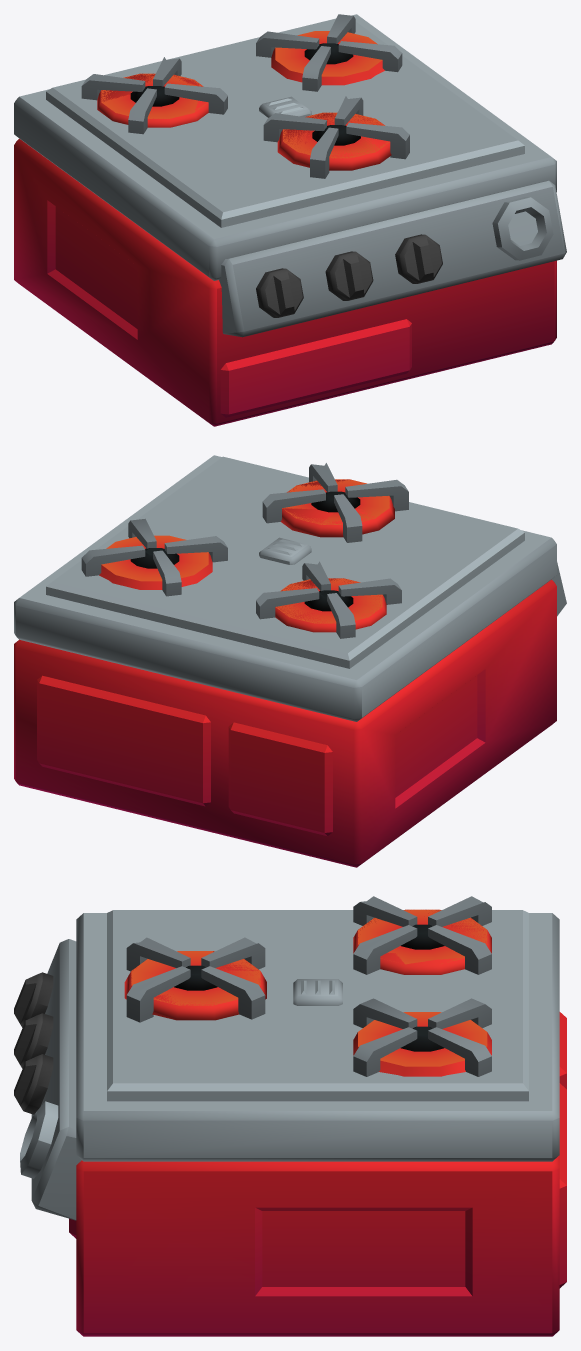
Rendered from stove 3.glb.
3 views of the same model, one above another, from view 1: azimuth 30°, elevation 25°; view 2: azimuth 150°, elevation 25°; view 3: azimuth 270°, elevation 25° (orthographic). The views are drawn at different scales.
Parts seen in each view (by area): view 1: stove_multi; view 2: stove_multi; view 3: stove_multi.
Part boxes in pixels (box(x1,y1,x2,y2)): stove_multi: box(14, 14, 566, 426); stove_multi: box(14, 455, 566, 867); stove_multi: box(14, 896, 566, 1336).
Size of the model in its own units: 2 by 1.25 by 2.29.
1 material, 1 textured.
